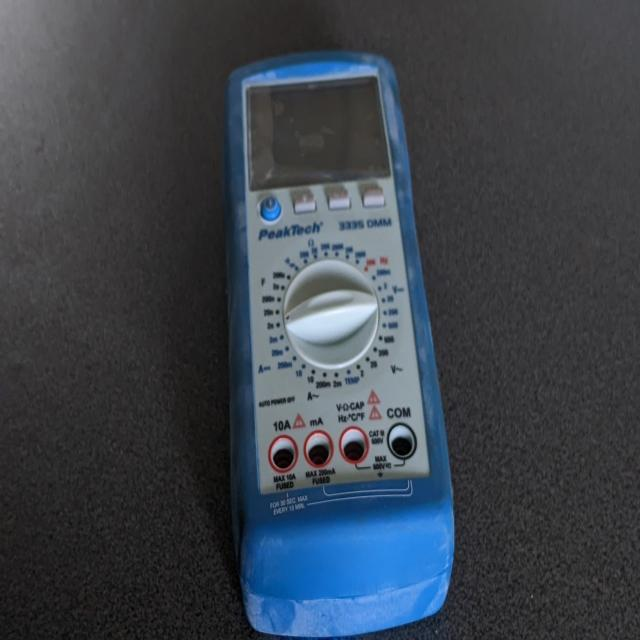Digital Multimeter: (216, 32, 460, 640)
